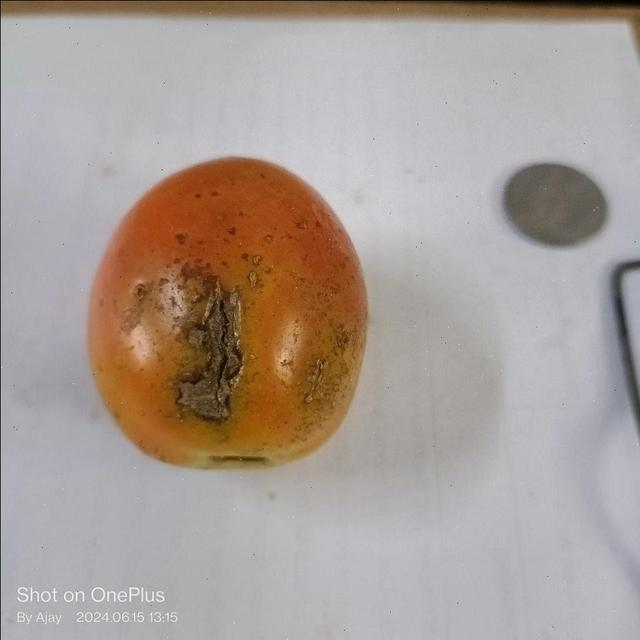Bacterial Spot Fruit: (111, 174, 160, 280)
